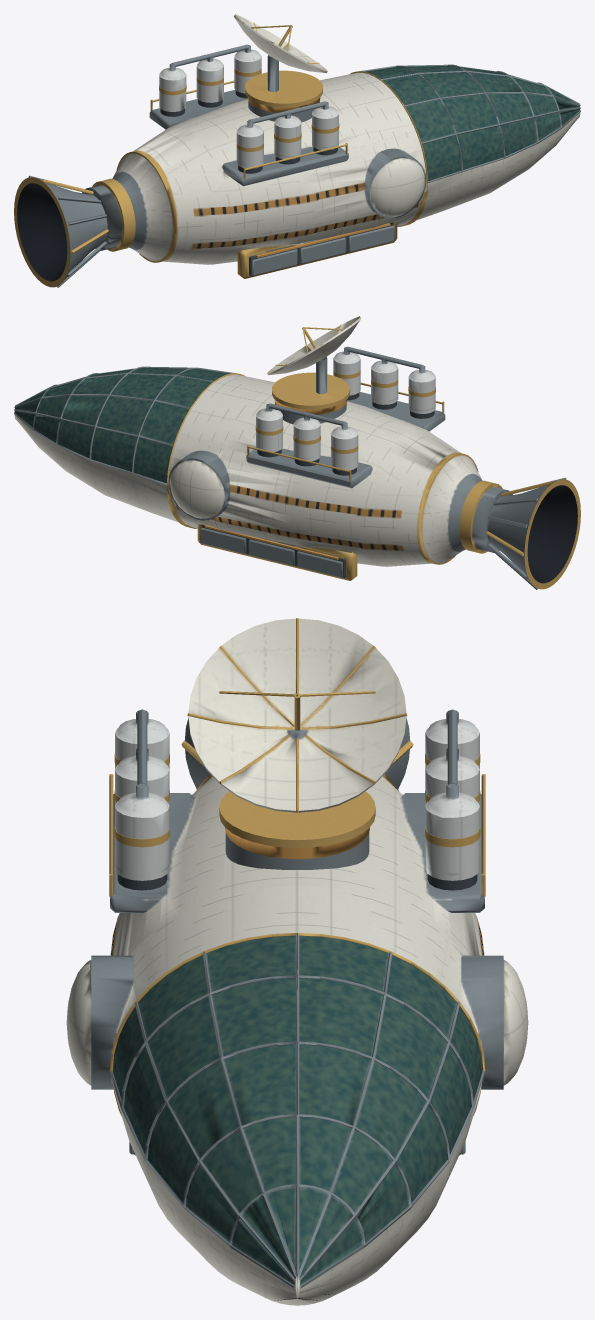
The model's file is seed-renewed.glb.
The picture shows the model from 3 angles, top to bottom: view 1: azimuth 30°, elevation 25°; view 2: azimuth 150°, elevation 25°; view 3: azimuth 270°, elevation 25°; orthographic projection. The views are drawn at different scales.
Parts seen in each view (by area): view 1: seed-renewed; view 2: seed-renewed; view 3: seed-renewed.
Boxes of the visible parts, x1=… form: seed-renewed: x1=14, y1=14, x2=580, y2=287; seed-renewed: x1=14, y1=316, x2=580, y2=589; seed-renewed: x1=66, y1=618, x2=528, y2=1305.
Size of the model in its own units: 1 by 0.4107 by 0.3717.
1 material, 1 textured.
